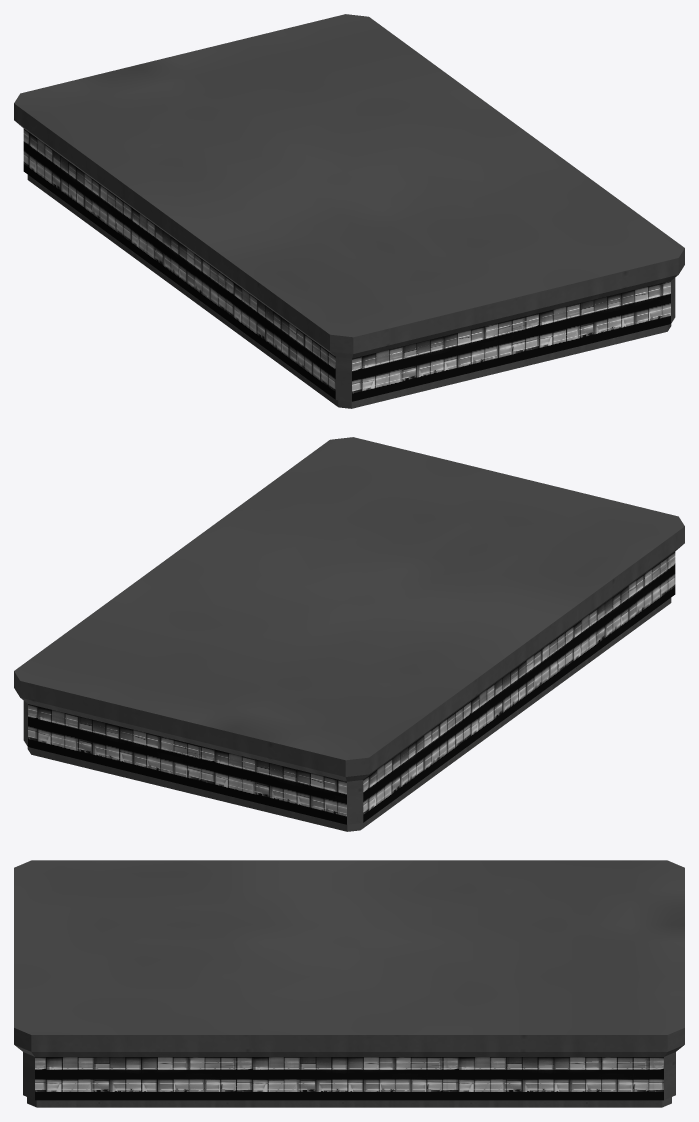
File: SM_BuildingTopFloor.FBX
The picture shows the model from 3 angles, top to bottom: view 1: azimuth 30°, elevation 25°; view 2: azimuth 150°, elevation 25°; view 3: azimuth 270°, elevation 25°; orthographic projection.
Parts seen in each view (by area): view 1: SM_BuildingTopFloor; view 2: SM_BuildingTopFloor; view 3: SM_BuildingTopFloor.
Part boxes in pixels (x1,y1,x2,y2): SM_BuildingTopFloor: [14, 14, 684, 408]; SM_BuildingTopFloor: [14, 437, 684, 831]; SM_BuildingTopFloor: [14, 860, 684, 1107].
Size of the model in its own units: 1920 by 400 by 3120.
